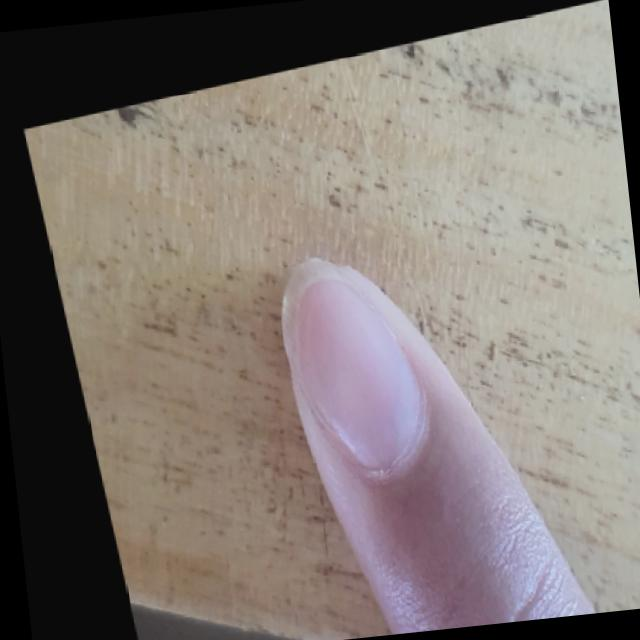Nail: (280, 257, 421, 466)
